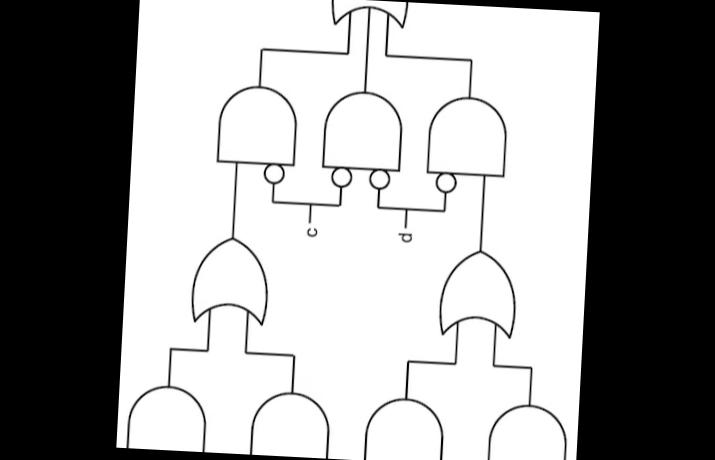and: (357, 387, 452, 460)
or: (181, 226, 279, 334), (431, 239, 526, 344)
